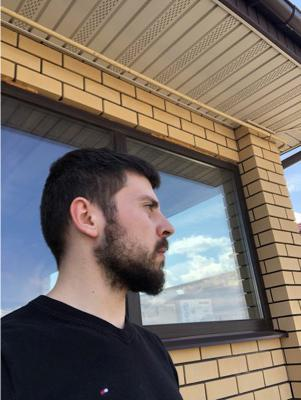without_mask: (116, 186, 175, 295)
